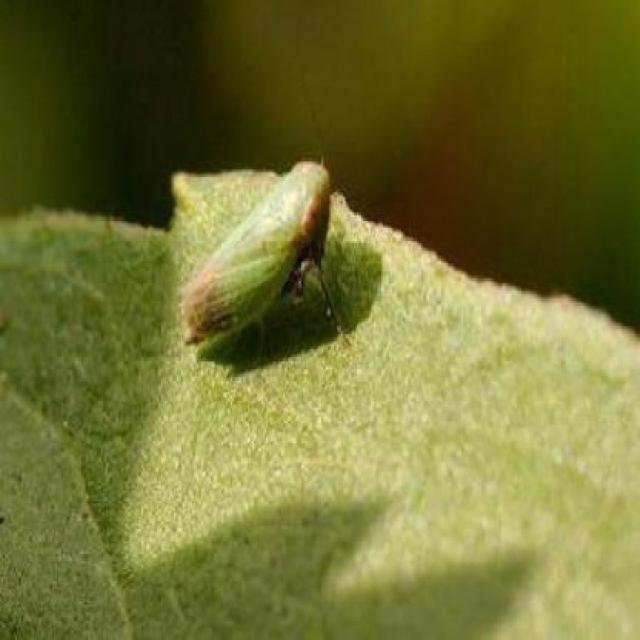green-leafhopper: (190, 154, 336, 348)
